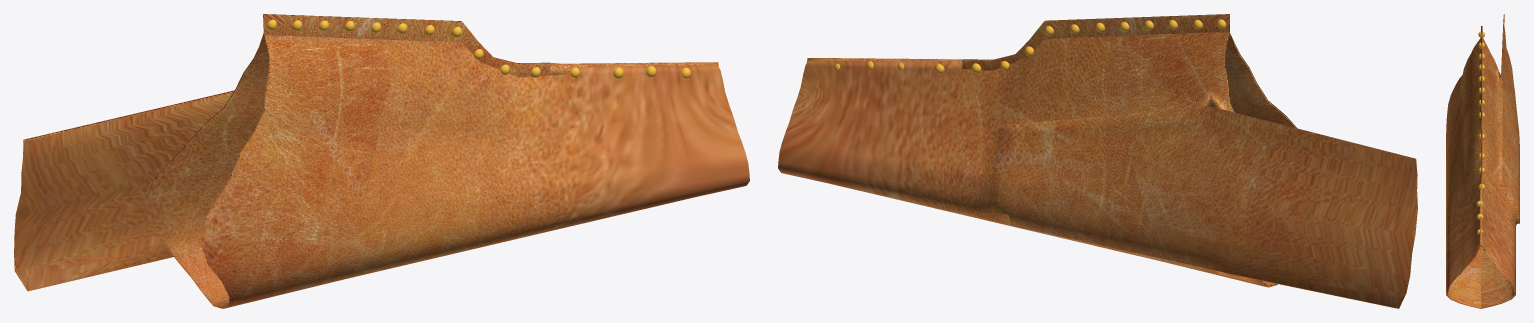
The model's file is holster-left.fbx.
3 views of the same model, side by side, from view 1: azimuth 30°, elevation 25°; view 2: azimuth 150°, elevation 25°; view 3: azimuth 270°, elevation 25° (orthographic). The views are drawn at different scales.
Visible parts, largest first — view 1: Sphere; view 2: Sphere; view 3: Sphere.
Boxes of the visible parts, x1,y1,x2,y2 form: Sphere: (14,14,749,308); Sphere: (778,14,1417,308); Sphere: (1446,14,1519,308).
Bounding box in the file's own units: 268 × 105 × 44.72.
Materials: 1 (1 with a texture image).
